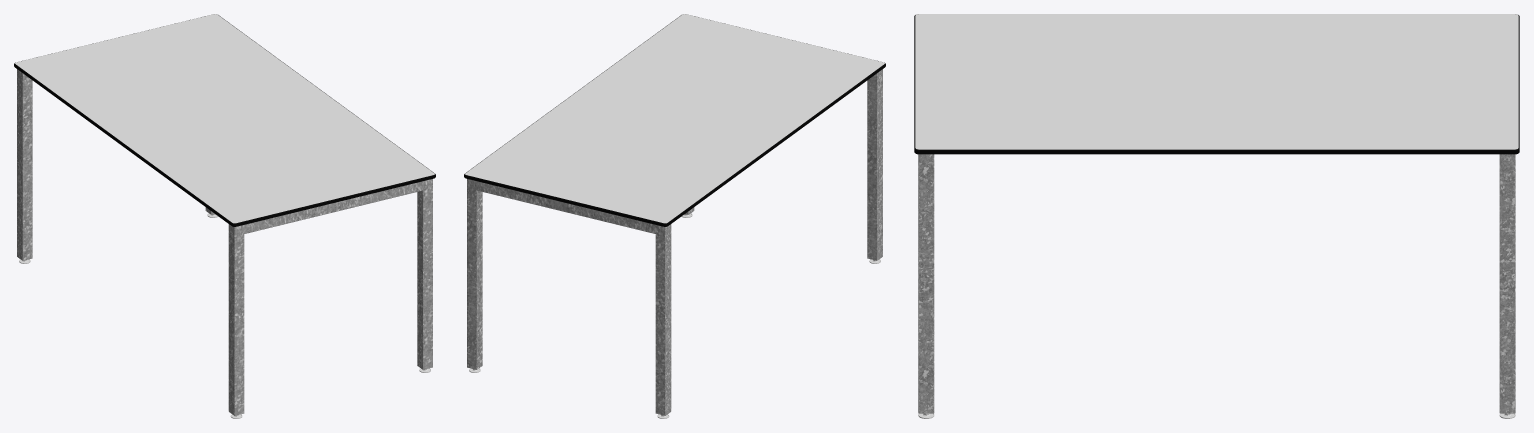
Rendered from lineapro-outdoor-150.glb.
The picture shows the model from 3 angles, left to right: view 1: azimuth 30°, elevation 25°; view 2: azimuth 150°, elevation 25°; view 3: azimuth 270°, elevation 25°; orthographic projection. The views are drawn at different scales.
Parts seen in each view (by area): view 1: Tischplatte, Gestell, HPL-Kante; view 2: Tischplatte, Gestell, HPL-Kante; view 3: Tischplatte, Gestell, HPL-Kante.
Boxes of the visible parts, bbox=[...] form: Tischplatte: bbox=[15, 14, 434, 223]; Gestell: bbox=[17, 69, 432, 415]; HPL-Kante: bbox=[14, 15, 435, 226]; Tischplatte: bbox=[465, 14, 884, 223]; Gestell: bbox=[467, 69, 882, 415]; HPL-Kante: bbox=[464, 15, 885, 226]; Tischplatte: bbox=[915, 14, 1518, 149]; Gestell: bbox=[918, 154, 1515, 413]; HPL-Kante: bbox=[914, 15, 1519, 154].
Size of the model in its own units: 0.8 by 0.74 by 1.5.
Materials: 3 (1 with a texture image).
